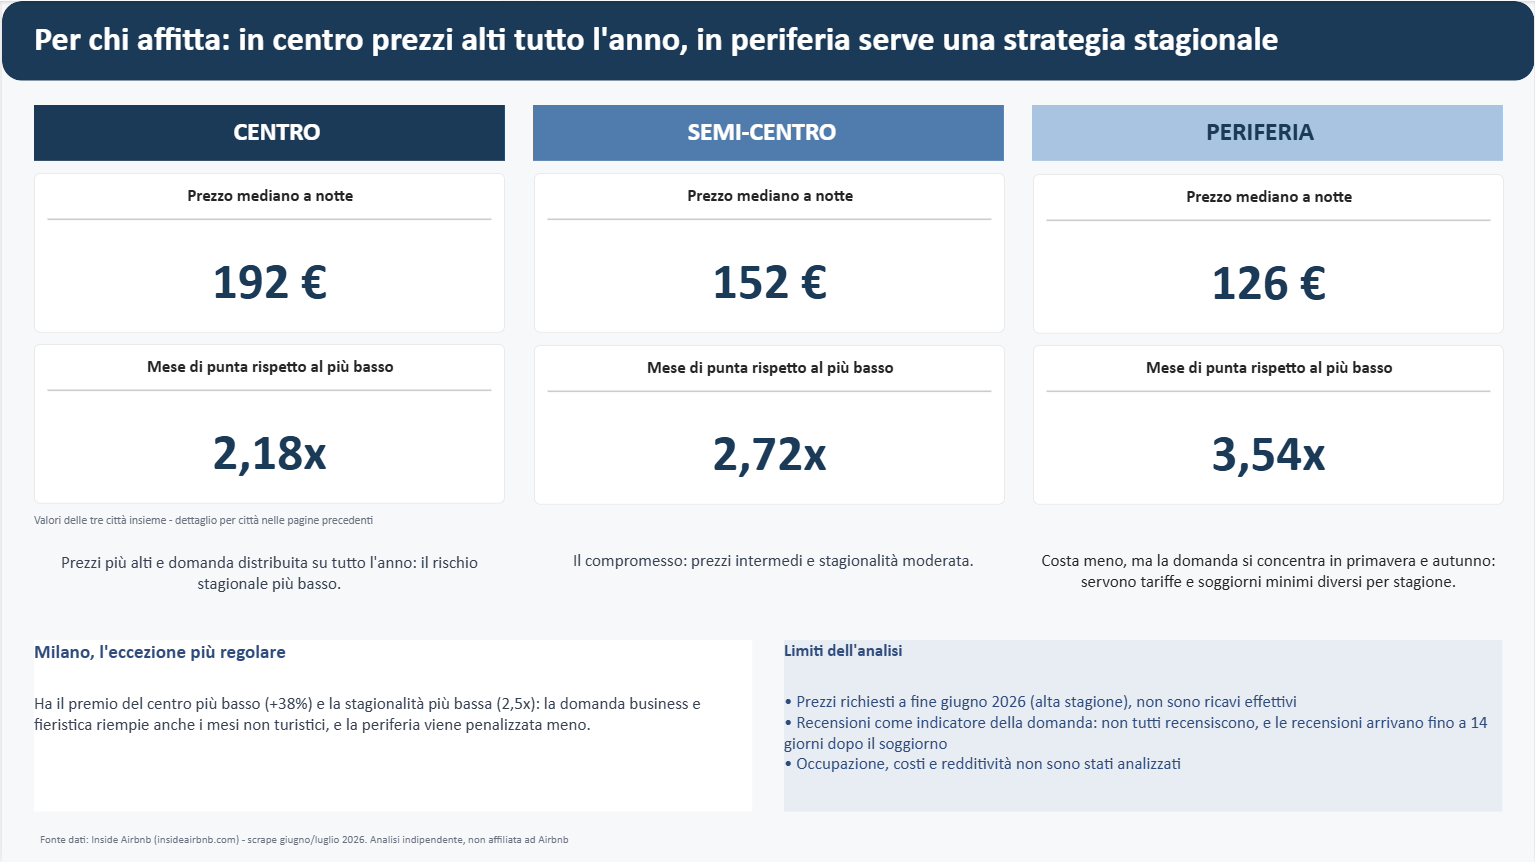

What the dashboard file says about the page in this screenshot:
{"tool":"powerbi","page":{"name":"Conclusioni","canvas":[1920,1080],"ordinal":5},"visuals":[{"type":"shape","box":[0,0,1920,100],"z":0},{"type":"textbox","box":[40,20,1840,60],"z":1000},{"type":"textbox","box":[48,1040,1200,32],"z":2000},{"type":"shape","box":[40,130,590,70],"z":3000},{"type":"shape","box":[665,130,590,70],"z":4000},{"type":"shape","box":[1290,130,590,70],"z":5000},{"type":"textbox","box":[96,144,496,64],"z":6000},{"type":"textbox","box":[704,144,496,64],"z":7000},{"type":"textbox","box":[1328,144,496,80],"z":8000},{"type":"card","title":"Prezzo mediano a notte","fields":{"Values":["_Measures.Median Price"]},"box":[40,215,590,200],"z":9000},{"type":"card","title":"Mese di punta rispetto al più basso","fields":{"Values":["_Measures.Seasonality Ratio"]},"box":[40,430,590,200],"z":10000},{"type":"card","title":"Prezzo mediano a notte","fields":{"Values":["_Measures.Median Price"]},"box":[666.7,216,590,200],"z":11000},{"type":"card","title":"Mese di punta rispetto al più basso","fields":{"Values":["_Measures.Seasonality Ratio"]},"box":[666.7,431,590,200],"z":12000},{"type":"card","title":"Prezzo mediano a notte","fields":{"Values":["_Measures.Median Price"]},"box":[1292.1,216.5,590,200],"z":13000},{"type":"card","title":"Mese di punta rispetto al più basso","fields":{"Values":["_Measures.Seasonality Ratio"]},"box":[1292.1,431.5,590,200],"z":14000},{"type":"textbox","box":[40,640,1000,30],"z":14001},{"type":"textbox","box":[40,690,590,95],"z":14002},{"type":"textbox","box":[672,688,590,95],"z":14003},{"type":"textbox","box":[1292,688,590,150],"z":14004},{"type":"textbox","box":[40,800,900,215],"z":14005},{"type":"textbox","box":[980,800,900,215],"z":14006}]}

Visuals, with their boxes in screenshot pixels (x1, y1, x2, y2), scaled from the page's 1920x1080 canvas onto the 1535x862 screenshot:
shape: 0:0:1534:80
textbox: 32:16:1503:64
textbox: 38:830:998:856
shape: 32:104:504:160
shape: 532:104:1003:160
shape: 1031:104:1503:160
textbox: 77:115:473:166
textbox: 563:115:959:166
textbox: 1062:115:1458:179
"Prezzo mediano a notte" card: 32:172:504:331
"Mese di punta rispetto al più basso" card: 32:343:504:503
"Prezzo mediano a notte" card: 533:172:1005:332
"Mese di punta rispetto al più basso" card: 533:344:1005:504
"Prezzo mediano a notte" card: 1033:173:1505:332
"Mese di punta rispetto al più basso" card: 1033:344:1505:504
textbox: 32:511:831:535
textbox: 32:551:504:627
textbox: 537:549:1009:625
textbox: 1033:549:1505:669
textbox: 32:639:752:810
textbox: 783:639:1503:810
